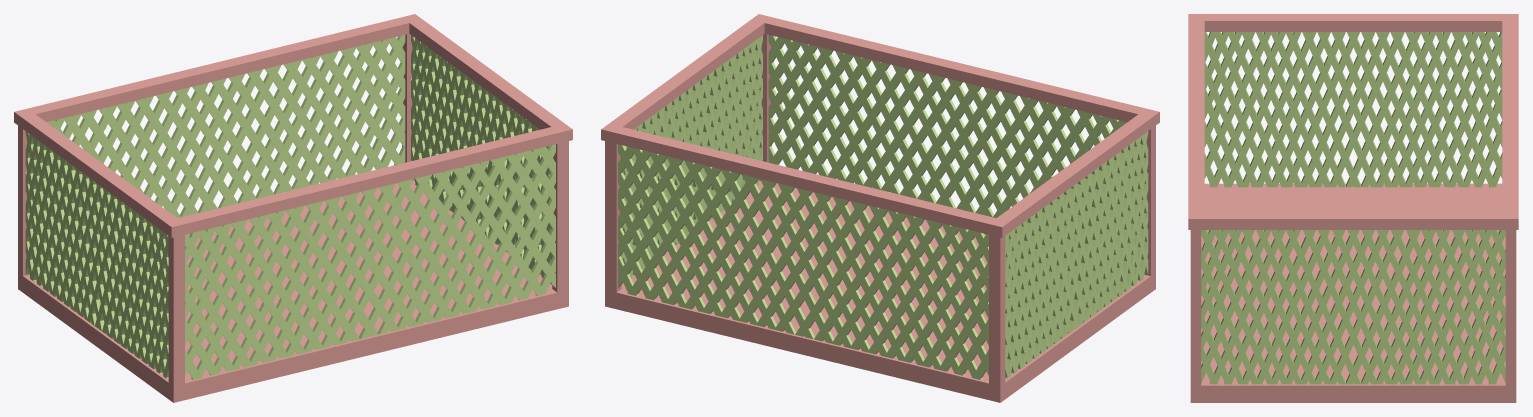
Rendered from Cesta_Cartas.fbx.
3 views of the same model, side by side, from view 1: azimuth 30°, elevation 25°; view 2: azimuth 150°, elevation 25°; view 3: azimuth 270°, elevation 25° (orthographic). The views are drawn at different scales.
Visible parts, largest first — view 1: Cesta_Cartas; view 2: Cesta_Cartas; view 3: Cesta_Cartas.
Boxes of the visible parts, <box> form: Cesta_Cartas: <box>14,14,572,402</box>; Cesta_Cartas: <box>601,14,1159,402</box>; Cesta_Cartas: <box>1188,14,1518,402</box>.
Size of the model in its own units: 31.3 by 13.22 by 21.31.
